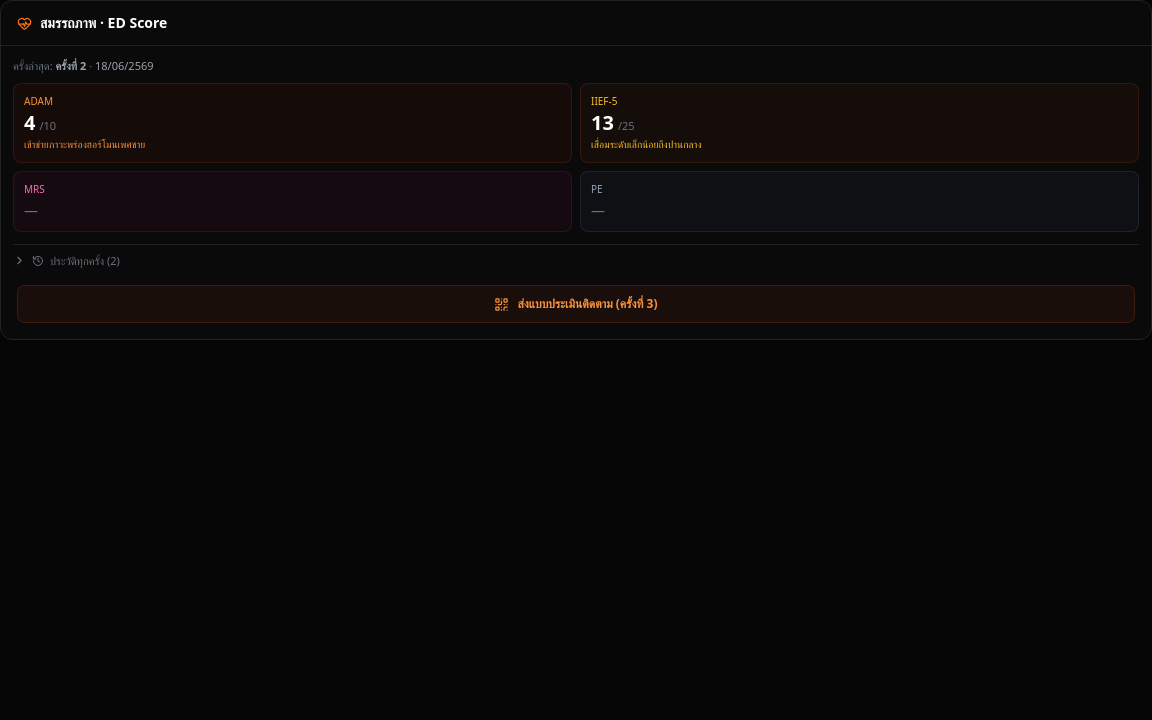
Test: ED chip → 2-panel compare modal › CM1 ≥2 rounds w/ type → 2 panels; both scores visible (primary 13, compare 10)
The width and height of the screenshot is (1152, 720).
What coordinates should you click on to do the following:
click the button "IIEF-5 13 /25 เสื่อมระดับเล็กน้อยถึงปานกลาง"
I would click on:
 (646, 144)
Its box is 580,82 -> 1139,162.
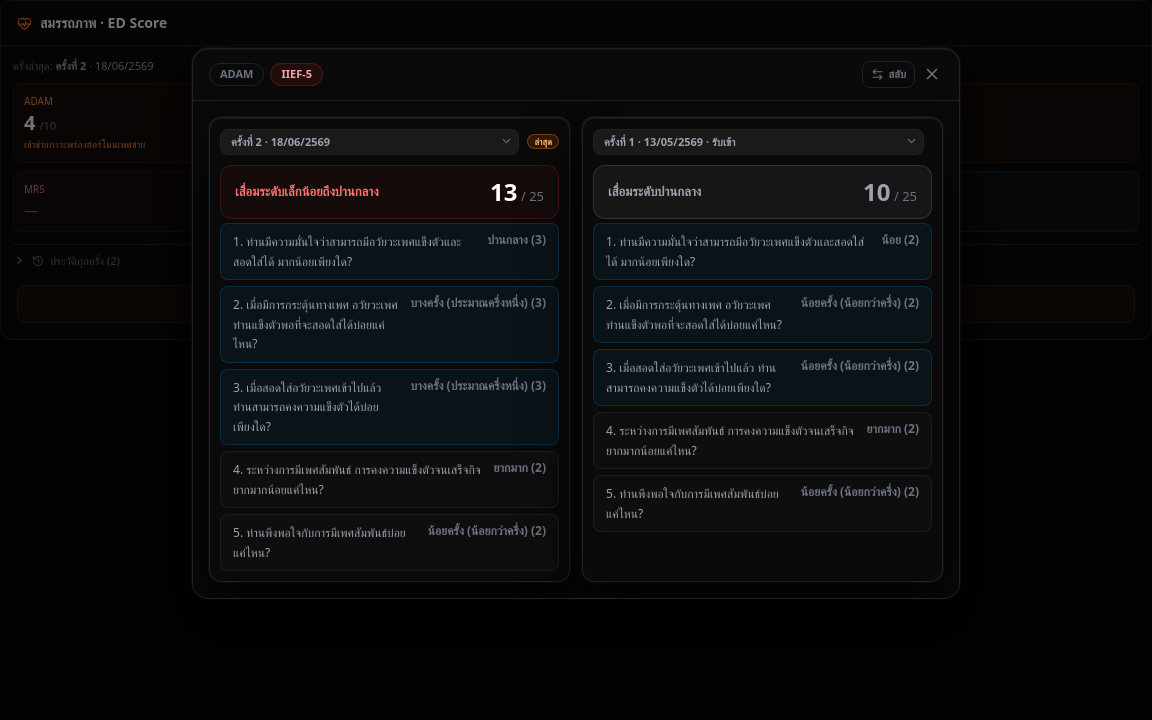
Check: the element with test id "ed-detail-modal" is shown, box 192,48 -> 960,599
Check: the text "13" is shown, box 490,175 -> 518,208
Check: the text "10" is shown, box 863,175 -> 890,208
